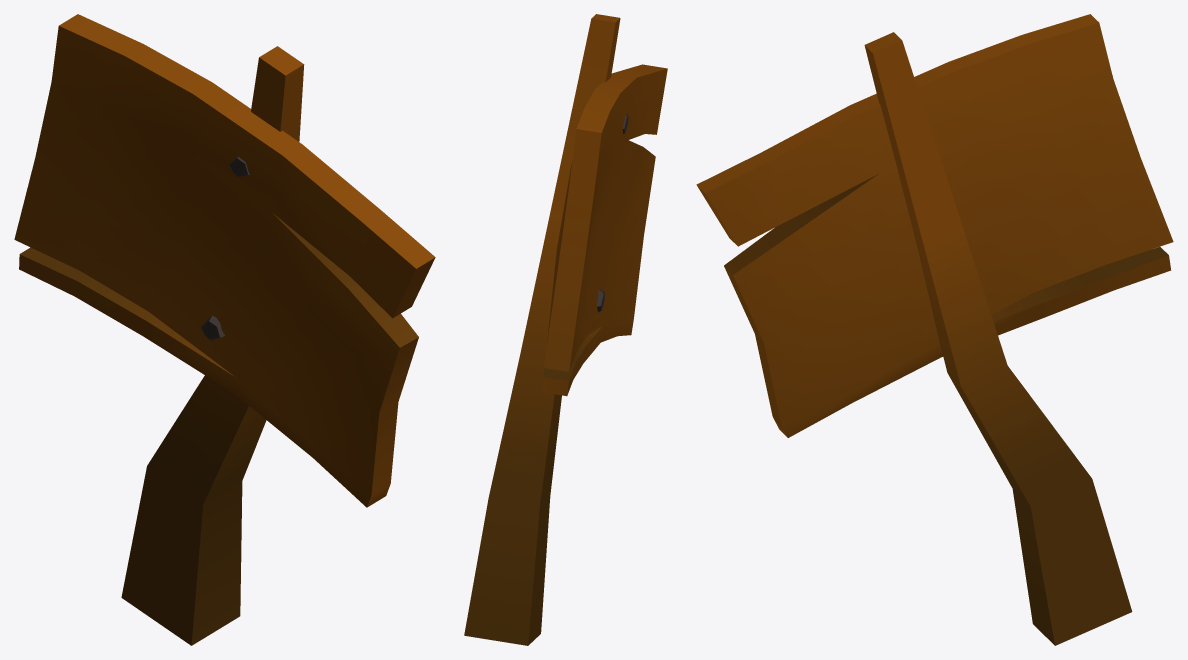
The model's file is MM QuitSign.fbx.
The picture shows the model from 3 angles, left to right: view 1: azimuth 30°, elevation 25°; view 2: azimuth 150°, elevation 25°; view 3: azimuth 270°, elevation 25°; orthographic projection. The views are drawn at different scales.
Visible parts, largest first — view 1: QuitButton; view 2: QuitButton; view 3: QuitButton.
Boxes of the visible parts, box(x1,y1,x2,y2) form: QuitButton: box(14, 14, 435, 645); QuitButton: box(464, 14, 667, 645); QuitButton: box(696, 14, 1173, 645).
Bounding box in the file's own units: 0.5837 × 2.15 × 1.57.
